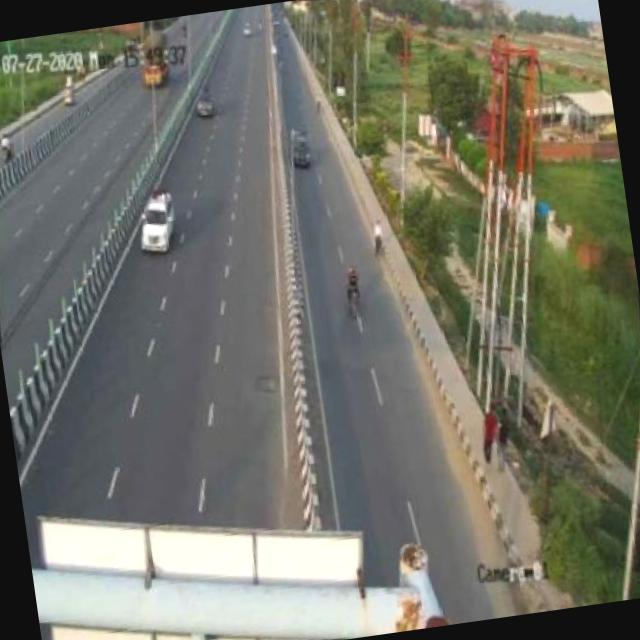car: (130, 180, 185, 261), (286, 130, 318, 172), (189, 83, 220, 122)
